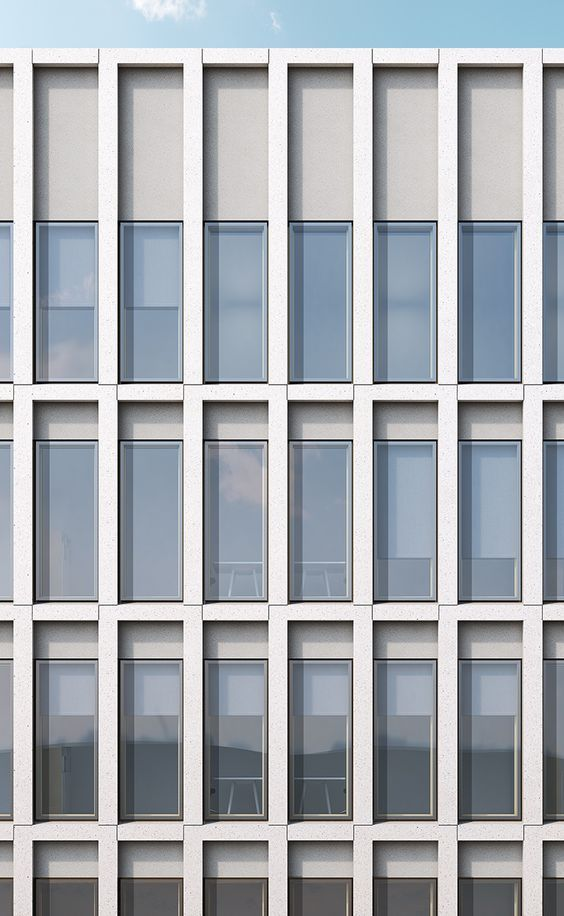glass_panel: (289, 441, 352, 601), (459, 441, 521, 601), (36, 441, 98, 601), (374, 441, 436, 601), (459, 223, 521, 382), (374, 223, 436, 382), (204, 223, 266, 382), (374, 660, 436, 819), (290, 223, 352, 382), (120, 441, 182, 600), (459, 661, 521, 819), (205, 441, 266, 601), (205, 661, 266, 819), (36, 661, 97, 819), (121, 223, 182, 381), (36, 223, 97, 381), (121, 661, 182, 819), (290, 661, 351, 819), (543, 441, 564, 601), (543, 223, 564, 382), (0, 661, 13, 913), (544, 660, 564, 819), (120, 878, 183, 916), (289, 878, 352, 916), (35, 878, 98, 916), (205, 878, 267, 916), (374, 878, 436, 916), (459, 879, 521, 916), (0, 442, 13, 601), (0, 223, 13, 381), (543, 878, 564, 916), (0, 878, 13, 916)
